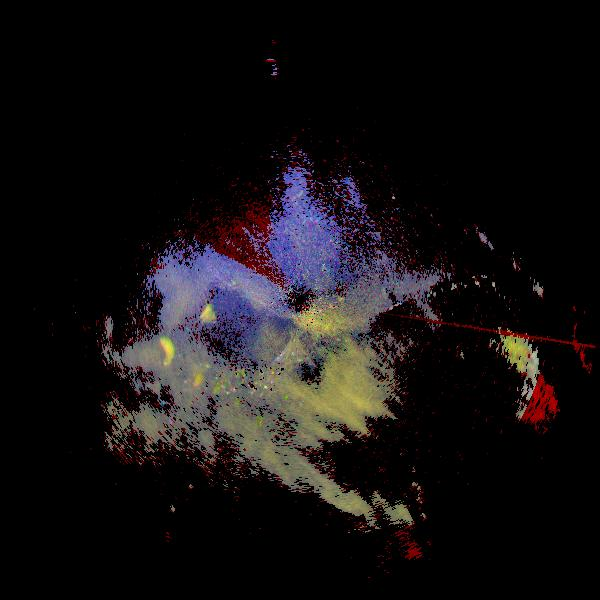roost: (126, 322, 189, 385)
